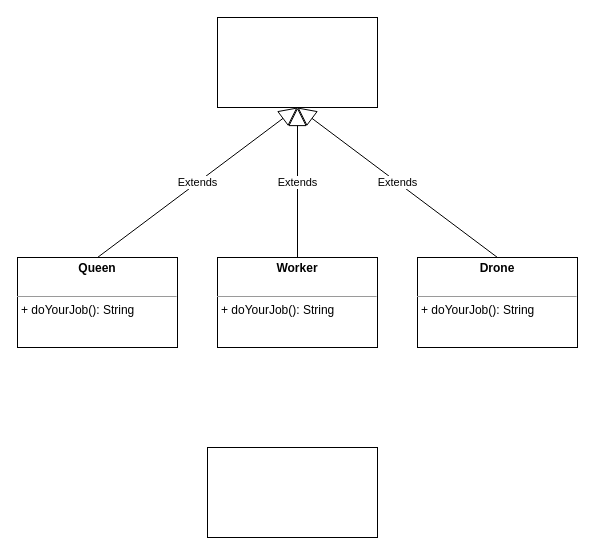
Some shapes in this 595 by 555 pixel diagram are drawn without their labels. The centre of each missing label's shape, as x and y in pixels:
"App + main(): void + ausgabe(): void" belongs at (x=292, y=492).
"HoneyBee + doYourJob(): String + fly(): String" belongs at (x=297, y=62).
